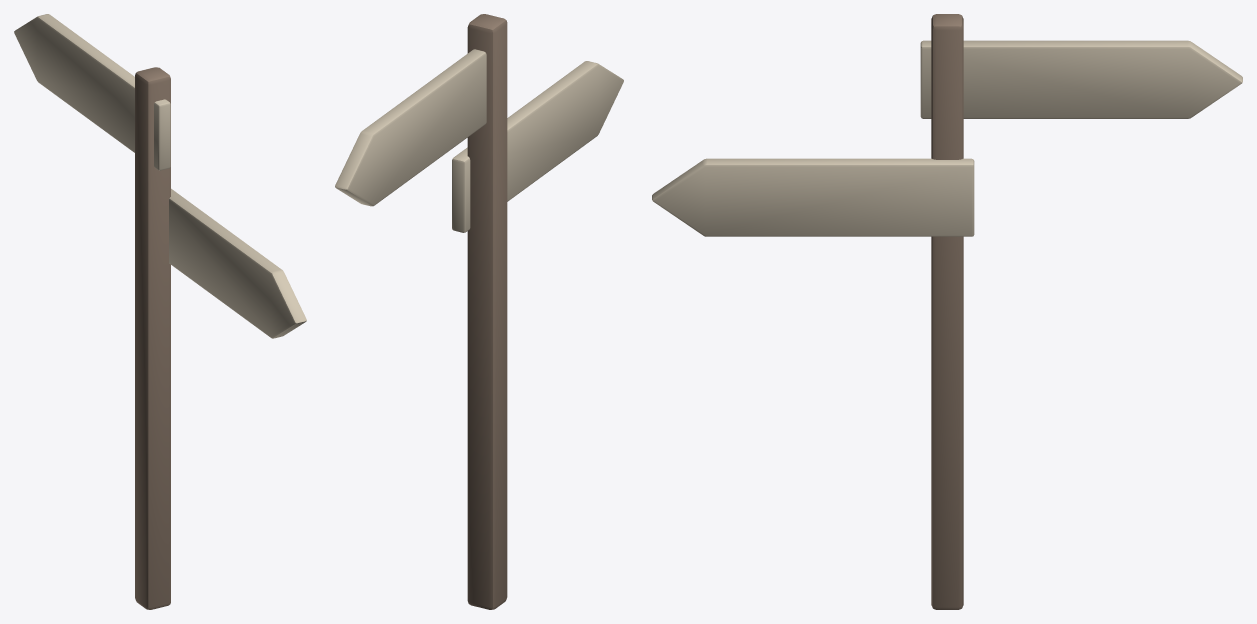
Rendered from signpost.gltf.
3 renders of one model, left to right at view 1: azimuth 30°, elevation 25°; view 2: azimuth 150°, elevation 25°; view 3: azimuth 270°, elevation 25°, orthographic. The views are drawn at different scales.
Parts seen in each view (by area): view 1: Body; view 2: Body; view 3: Body.
Boxes of the visible parts, left/top/right/bottom form: Body: left=14, top=14, right=306, bottom=609; Body: left=335, top=14, right=623, bottom=609; Body: left=652, top=14, right=1242, bottom=609.
Size of the model in its own units: 0.16 by 2.4 by 2.19.
